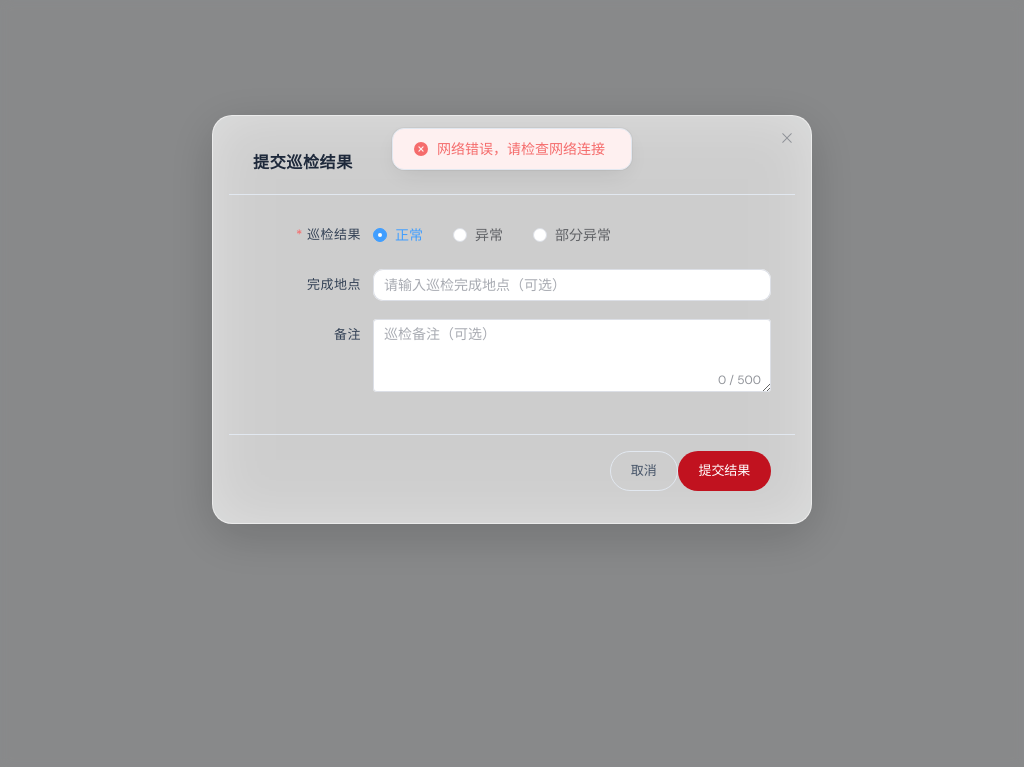
Scenario: InspectionCompleteForm 设备下拉的缺数据可见化 › 设备列表请求失败：提示与「暂无设备」可区分
The width and height of the screenshot is (1024, 767).
Click the radio button labelled "异常" at (478, 235), box [453,226,503,244]
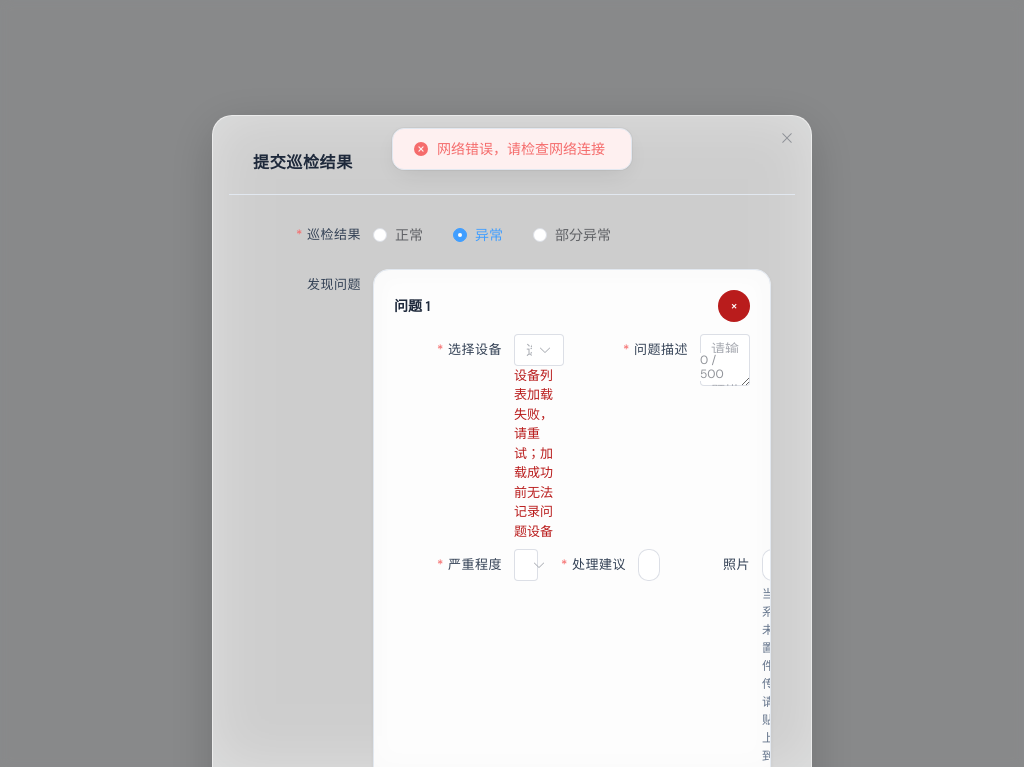
Result: the text "设备列表加载失败，请重试；加载成功前无法记录问题设备" is shown at [514,367,553,540]
